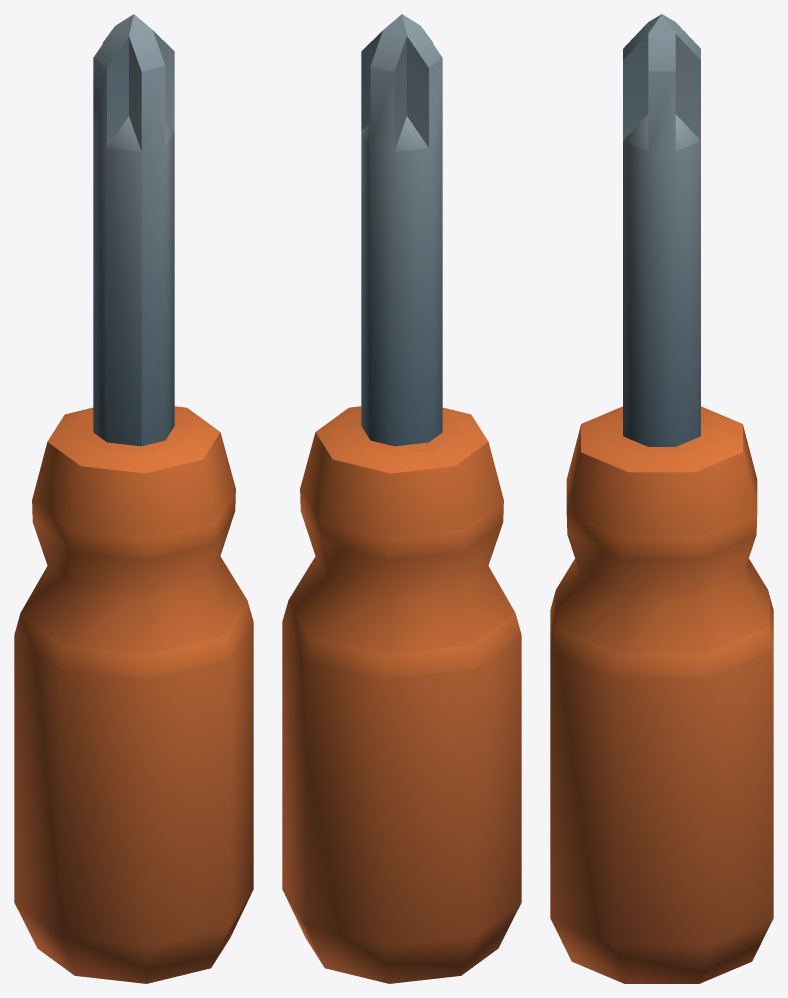
The model's file is screwdriver_B_short_color.fbx.
3 renders of one model, left to right at view 1: azimuth 30°, elevation 25°; view 2: azimuth 150°, elevation 25°; view 3: azimuth 270°, elevation 25°, orthographic.
Parts seen in each view (by area): view 1: screwdriver_B_short_color; view 2: screwdriver_B_short_color; view 3: screwdriver_B_short_color.
Boxes of the visible parts, bbox=[...] form: screwdriver_B_short_color: bbox=[14, 14, 253, 983]; screwdriver_B_short_color: bbox=[282, 14, 521, 983]; screwdriver_B_short_color: bbox=[550, 14, 773, 983].
Bounding box in the file's own units: 15.13 × 71.36 × 15.13.
